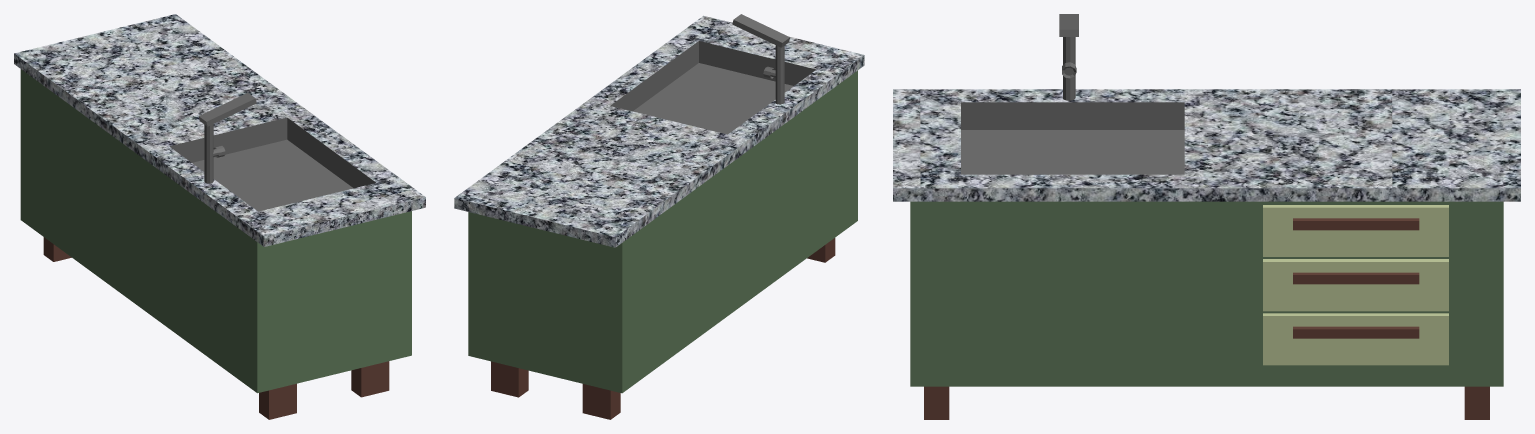
File: Pia_Cozinha.fbx
3 renders of one model, left to right at view 1: azimuth 30°, elevation 25°; view 2: azimuth 150°, elevation 25°; view 3: azimuth 270°, elevation 25°, orthographic. The views are drawn at different scales.
Visible parts, largest first — view 1: Pia_Cozinha, Torneira.001; view 2: Pia_Cozinha, Torneira.001; view 3: Pia_Cozinha, Gaveta.001, Gaveta.002, Gaveta, Torneira.001.
Boxes of the visible parts, x1,y1,x2,y2 form: Pia_Cozinha: (14,14,425,419); Torneira.001: (198,93,256,183); Pia_Cozinha: (454,15,864,419); Torneira.001: (732,14,789,104); Pia_Cozinha: (893,89,1520,419); Gaveta.001: (1263,259,1448,311); Gaveta.002: (1263,313,1448,365); Gaveta: (1263,205,1448,256); Torneira.001: (1059,14,1078,100).
Size of the model in its own units: 211 by 337 by 561.
